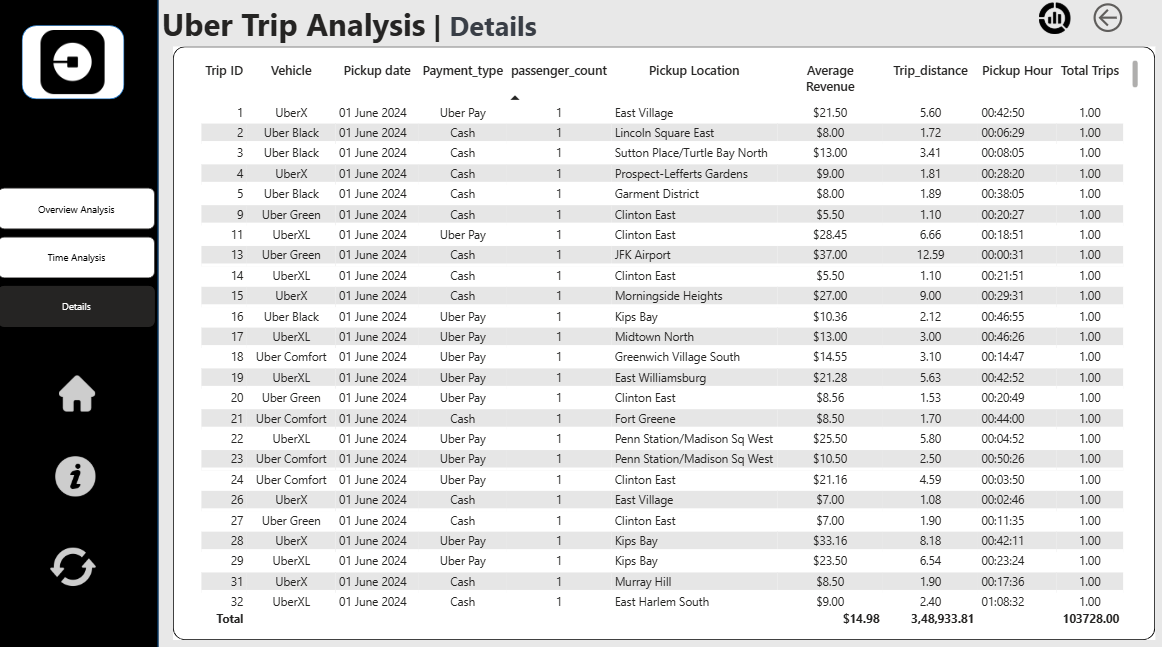

Layout of this report page (visuals, bound fields, positions):
{"tool":"powerbi","page":{"name":"Details","canvas":[1600,900],"ordinal":2},"visuals":[{"type":"shape","box":[0,0,220,900.5],"z":0},{"type":"shape","box":[32.1,35.6,140.8,101.6],"z":0,"group":"g1"},{"type":"textbox","box":[219.6,0,909.1,152.7],"z":1000},{"type":"image","box":[46.5,38.1,112,97.8],"z":1000,"group":"g1"},{"type":"image","box":[492.3,415.1,382.5,12],"z":2000},{"type":"shape","box":[240.1,65.2,1348.2,814.8],"z":3000},{"type":"tableEx","fields":{"Values":["Trip Details.Trip ID","Trip Details.Vehicle","Trip Details.Pickup date","Trip Details.Payment_type","Trip Details.passenger_count","Location Table.Location","Trip Details.Average Revenue","Sum(Trip Details.trip_distance)","Trip Details.Pickup Hour","Trip Details.Total Trips"]},"box":[273,78.4,1296.9,787.2],"z":4000},{"type":"actionButton","box":[1497.4,0,72,51.5],"z":5000},{"type":"image","box":[1423.6,0,52.8,52.8],"z":6000},{"type":"group","id":"g1","title":"Group 2","box":[32.1,35.6,140.8,101.6],"z":7000},{"type":"pageNavigator","box":[0,258.4,215.6,192.4],"z":8000},{"type":"image","box":[79.7,507.9,59.3,66.7],"z":9000},{"type":"image","box":[66.7,737.7,72.3,83.4],"z":10000},{"type":"image","box":[74.1,622.8,64.9,64.9],"z":11000}]}

Visuals, with their boxes on the page's 1600x900 design canvas (x1, y1, x2, y2). These are canvas units, not pixel positions in the 1162x647 screenshot, which may show the page scaled, cropped or inside an application window:
shape: [0, 0, 220, 900]
shape: [32, 36, 173, 137]
textbox: [220, 0, 1129, 153]
image: [46, 38, 158, 136]
image: [492, 415, 875, 427]
shape: [240, 65, 1588, 880]
tableEx - Trip Details.Trip ID x Trip Details.Vehicle: [273, 78, 1570, 866]
actionButton: [1497, 0, 1569, 52]
image: [1424, 0, 1476, 53]
"Group 2" group: [32, 36, 173, 137]
pageNavigator: [0, 258, 216, 451]
image: [80, 508, 139, 575]
image: [67, 738, 139, 821]
image: [74, 623, 139, 688]
